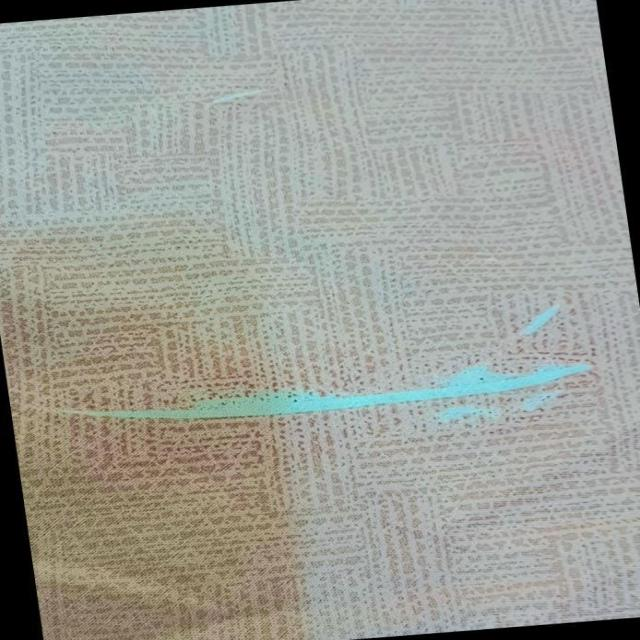selvet: (31, 347, 614, 461), (484, 295, 571, 351)
